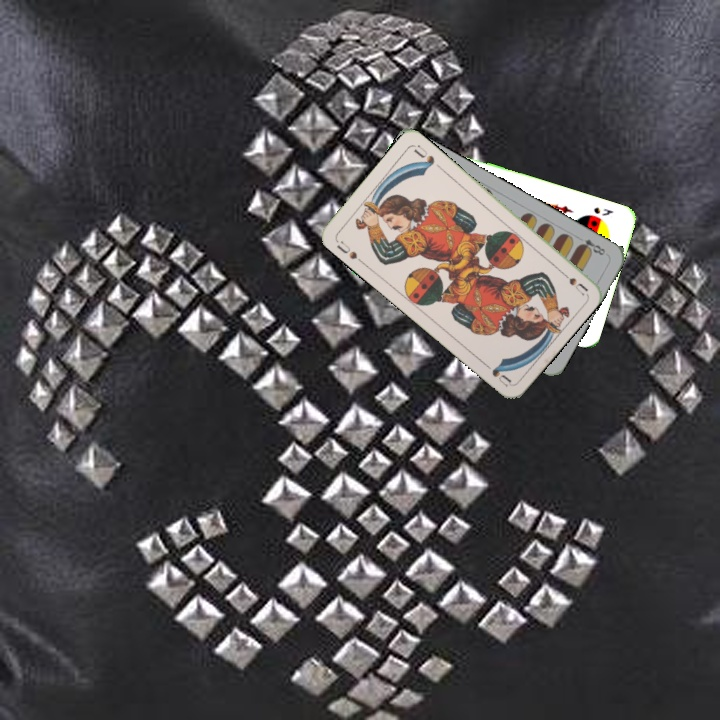E8: (573, 232, 608, 258)
SK: (589, 203, 616, 218)
SU: (554, 265, 590, 298), (333, 237, 360, 262)
